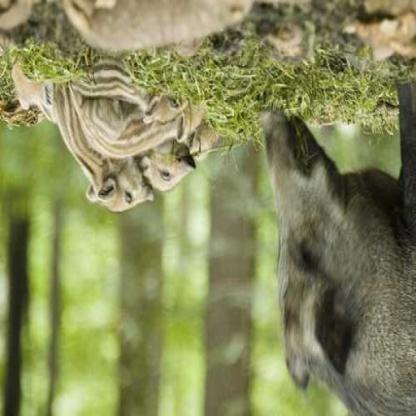boar: (269, 92, 415, 413), (57, 115, 171, 239), (118, 108, 222, 199)
